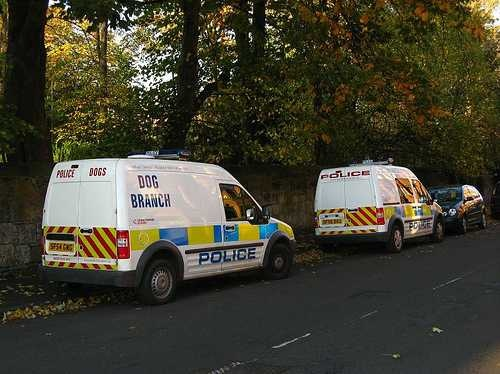Police Van: (42, 135, 288, 291), (314, 159, 446, 250)
